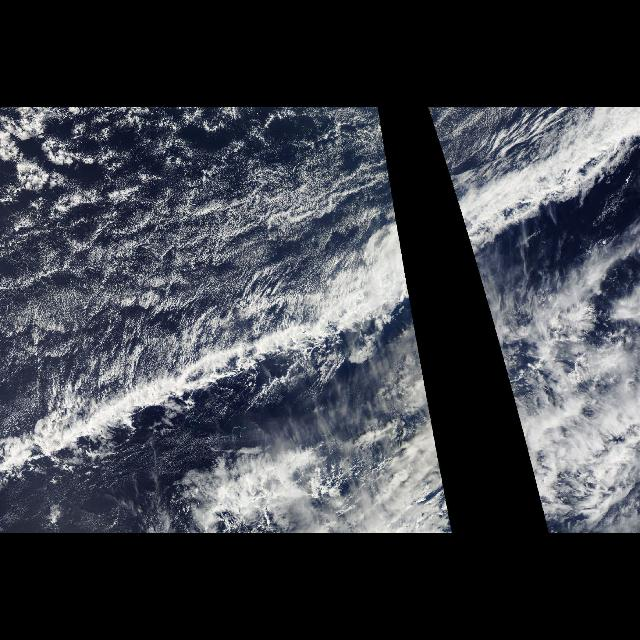Fish: (2, 338, 330, 482)
Sugar: (5, 125, 315, 321)
